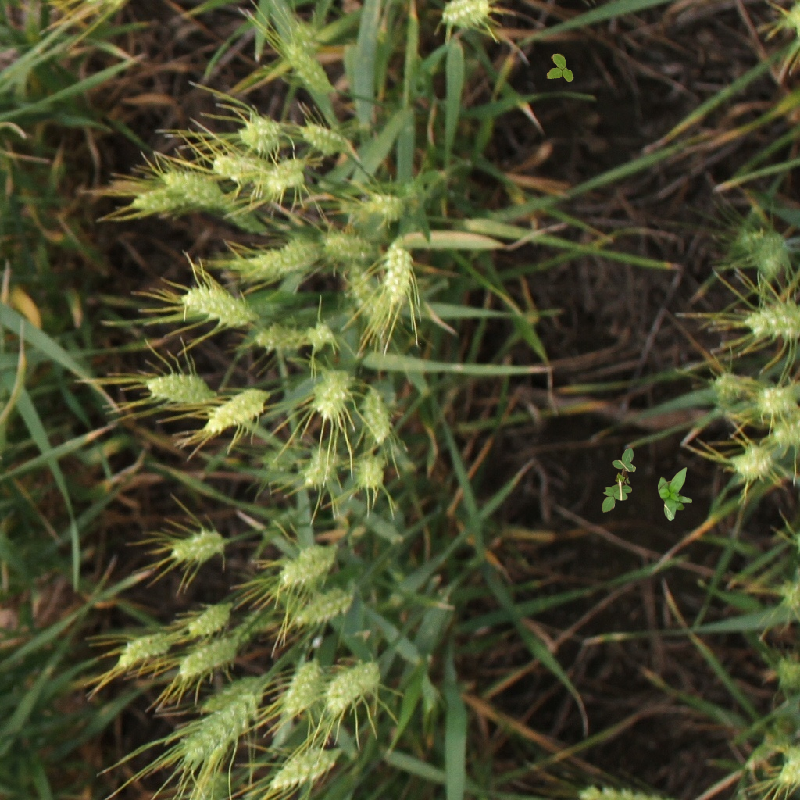spikelet: (179, 691, 262, 766), (240, 235, 318, 281), (180, 283, 255, 329), (322, 658, 382, 715), (268, 745, 336, 795), (343, 264, 391, 332), (203, 387, 268, 434), (281, 39, 333, 96), (160, 167, 225, 211), (279, 658, 324, 719), (278, 542, 337, 588), (177, 637, 238, 681), (292, 586, 354, 628), (380, 239, 416, 311), (115, 629, 177, 669), (308, 367, 353, 421), (145, 370, 213, 405), (743, 300, 799, 342), (358, 385, 394, 445), (319, 228, 375, 265), (210, 151, 267, 187), (749, 229, 790, 279), (169, 528, 224, 564), (299, 119, 349, 158), (128, 183, 185, 217), (262, 156, 306, 200), (236, 113, 284, 153), (253, 320, 309, 354), (575, 782, 687, 799), (299, 445, 340, 491), (729, 442, 774, 483), (358, 188, 407, 224), (186, 602, 232, 636), (440, 1, 492, 31), (351, 451, 388, 493), (708, 370, 746, 409), (181, 770, 231, 799), (753, 382, 794, 417), (259, 441, 301, 475), (304, 319, 338, 354), (776, 739, 799, 788), (771, 411, 799, 448), (778, 574, 799, 620), (773, 654, 799, 691), (781, 1, 800, 39)
weed: (602, 448, 636, 513), (658, 467, 692, 521), (539, 50, 575, 89)
